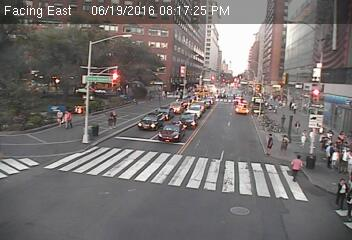neg: (50, 14, 74, 46), (94, 29, 116, 58), (235, 98, 255, 124), (200, 56, 218, 81), (169, 36, 187, 60), (206, 85, 219, 102)
pos: (328, 176, 351, 212), (288, 153, 311, 183), (325, 146, 344, 171), (258, 132, 276, 156), (105, 107, 122, 130), (62, 108, 78, 129), (49, 107, 64, 127), (296, 129, 309, 148), (278, 134, 290, 151)
